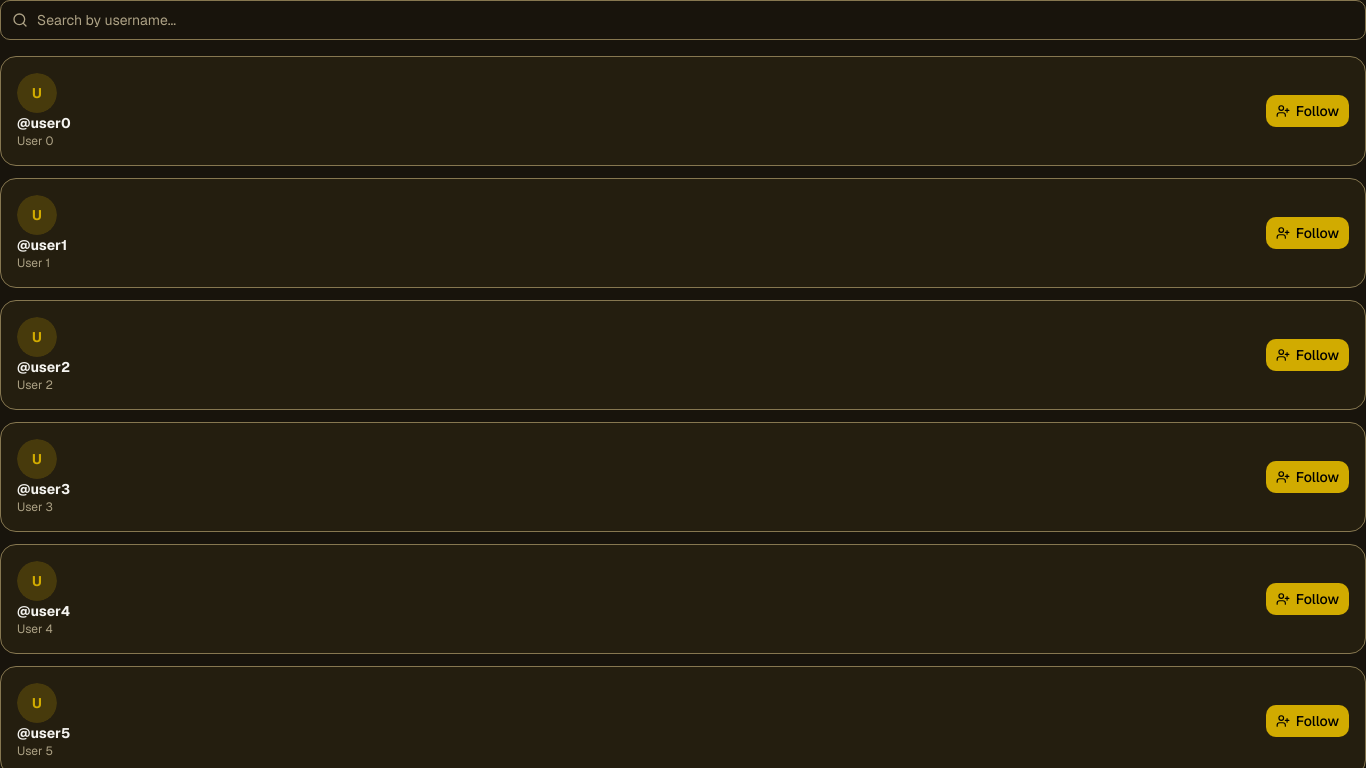
Test: FollowList › shows no-results message when search matches nothing
In the field named "Search users": {"x": 683, "y": 20} [0, 0, 1365, 40], type "nonexistent"
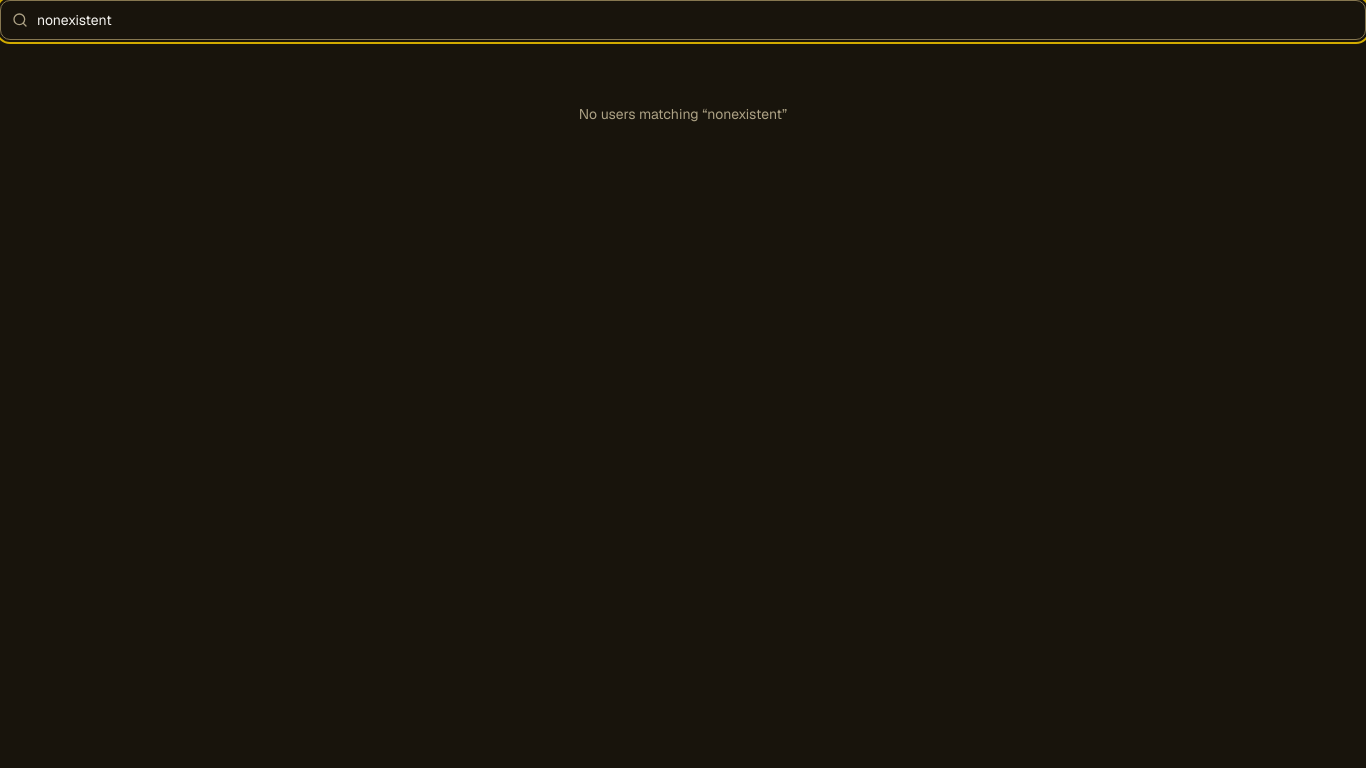
Check: the text "No users matching “nonexistent”" is shown, box [579, 104, 787, 124]
